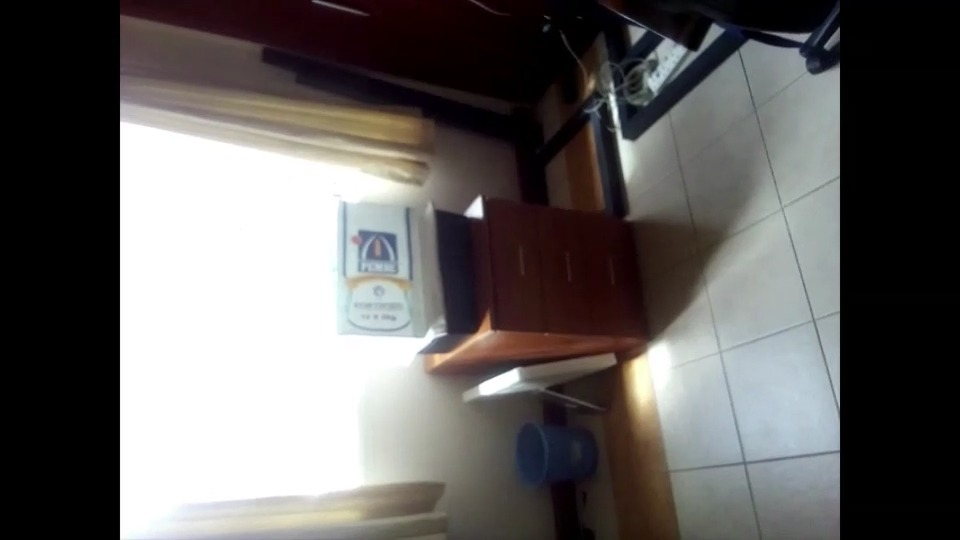wheat_flour_blue_label: (341, 196, 440, 337)
